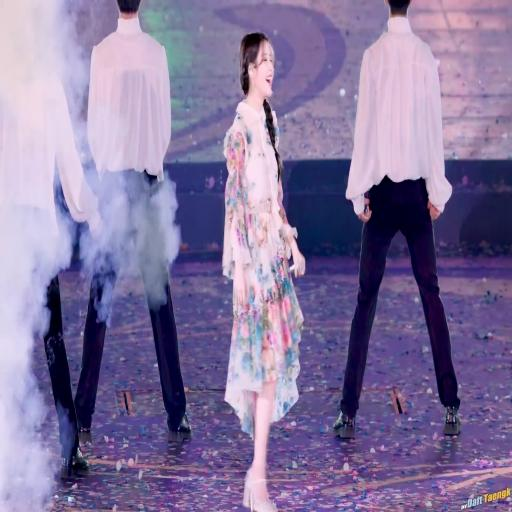IU: (240, 32, 275, 97)
